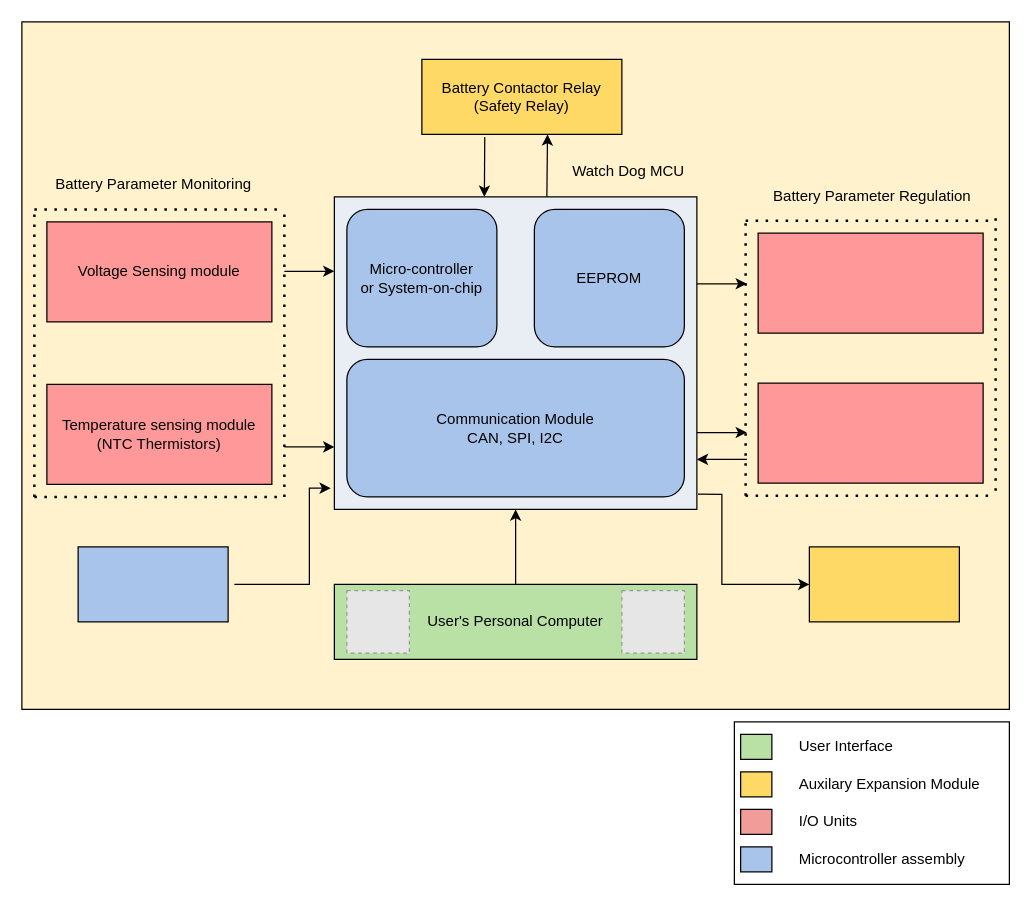
The diagram is 1031 pixels wide and 906 high, and some of its shapes have lost their labels. Grey dashed boxes stand in for pictures. Here are the shapes that lost their labels. From the top down, the centre of each, then its label:
At (870,282): "Battery Cooling Unit".
At (870,432): "Error State LEDs".
At (152,584): "Real Time Clock".
At (883,584): "Precharge circuit".
